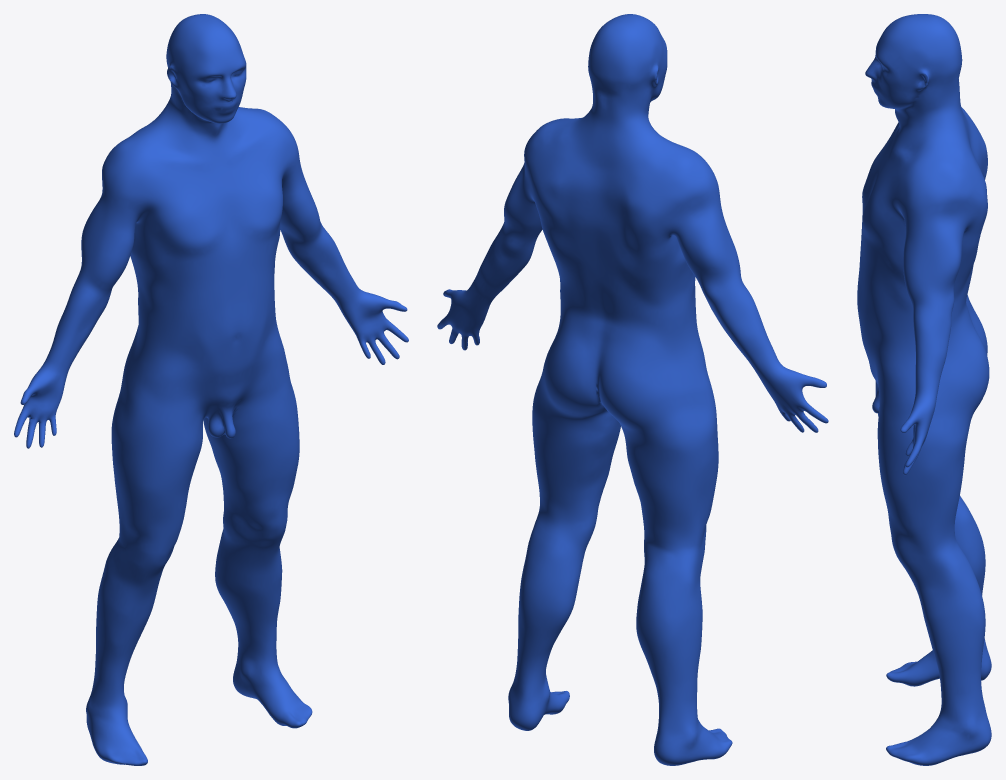
File: vh_m_skin-40.glb
3 views of the same model, side by side, from view 1: azimuth 30°, elevation 25°; view 2: azimuth 150°, elevation 25°; view 3: azimuth 270°, elevation 25° (orthographic). The views are drawn at different scales.
Parts seen in each view (by area): view 1: VH_M_skin; view 2: VH_M_skin; view 3: VH_M_skin.
Boxes of the visible parts, bbox=[...] form: VH_M_skin: bbox=[14, 14, 408, 765]; VH_M_skin: bbox=[437, 14, 828, 765]; VH_M_skin: bbox=[857, 14, 991, 765].
Bounding box in the file's own units: 1.05 × 1.83 × 0.3162.
